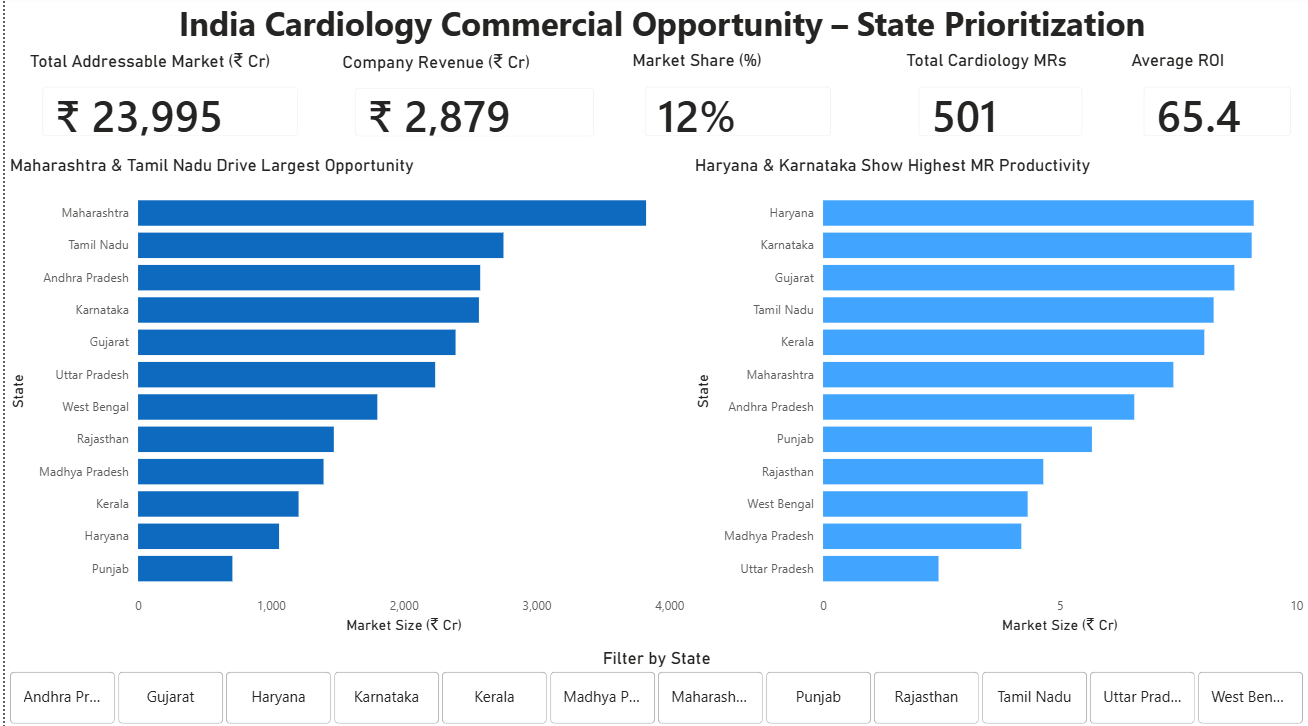

The dashboard page shown, as its layout file describes it:
{"tool":"powerbi","page":{"name":"India Cardiology Commercial Opportunity – State Prioritization","canvas":[1280,720],"ordinal":0},"visuals":[{"type":"textbox","box":[9.8,0,1269.9,52.8],"z":0},{"type":"cardVisual","title":"Total Addressable Market (₹ Cr)","fields":{"Data":["Sheet1.Total Market Size (₹ Cr)"]},"box":[19.6,52.8,285.9,94.5],"z":1000},{"type":"cardVisual","title":"Company Revenue (₹ Cr)","fields":{"Data":["Sheet1.Total Company Revenue (₹ Cr)"]},"box":[326.4,54,269.9,94.5],"z":2000},{"type":"cardVisual","title":"Total Cardiology MRs","fields":{"Data":["Sheet1.Total MRs"]},"box":[879.8,52.8,195.1,94.5],"z":3000},{"type":"cardVisual","title":"Average ROI","fields":{"Data":["Sheet1.Average ROI"]},"box":[1100.6,52.8,179.1,94.5],"z":4000},{"type":"clusteredBarChart","title":"Maharashtra & Tamil Nadu Drive Largest Opportunity","fields":{"Category":["Sheet1.State"],"Y":["Sum(Sheet1.Estimated Cardiology Market Size (₹ Crore))"]},"box":[0,155.8,672.4,474.8],"z":5000},{"type":"clusteredBarChart","title":"Haryana & Karnataka Show Highest MR Productivity","fields":{"Category":["Sheet1.State"],"Y":["Sum(Sheet1.Revenue_per_MR)"]},"box":[672.4,155.8,607.4,474.8],"z":6000},{"type":"advancedSlicerVisual","title":"Filter by State","fields":{"Values":["Sheet1.State"],"Label":["Min(Sheet1.State)"]},"box":[0,639.3,1279.8,81],"z":7000},{"type":"cardVisual","title":"Market Share (%)","fields":{"Data":["Sheet1.Market Share %"]},"box":[611,52.8,217.2,94.5],"z":8000}]}

Visuals, with their boxes in screenshot pixels (x1, y1, x2, y2), scaled from the page's 1280x720 canvas onto the 1308x726 screenshot:
textbox: <bbox>10, 0, 1307, 53</bbox>
"Total Addressable Market (₹ Cr)" cardVisual: <bbox>20, 53, 312, 149</bbox>
"Company Revenue (₹ Cr)" cardVisual: <bbox>334, 54, 609, 150</bbox>
"Total Cardiology MRs" cardVisual: <bbox>899, 53, 1098, 149</bbox>
"Average ROI" cardVisual: <bbox>1125, 53, 1307, 149</bbox>
"Maharashtra & Tamil Nadu Drive Largest Opportunity" clusteredBarChart: <bbox>0, 157, 687, 636</bbox>
"Haryana & Karnataka Show Highest MR Productivity" clusteredBarChart: <bbox>687, 157, 1307, 636</bbox>
"Filter by State" advancedSlicerVisual: <bbox>0, 645, 1307, 725</bbox>
"Market Share (%)" cardVisual: <bbox>624, 53, 846, 149</bbox>
